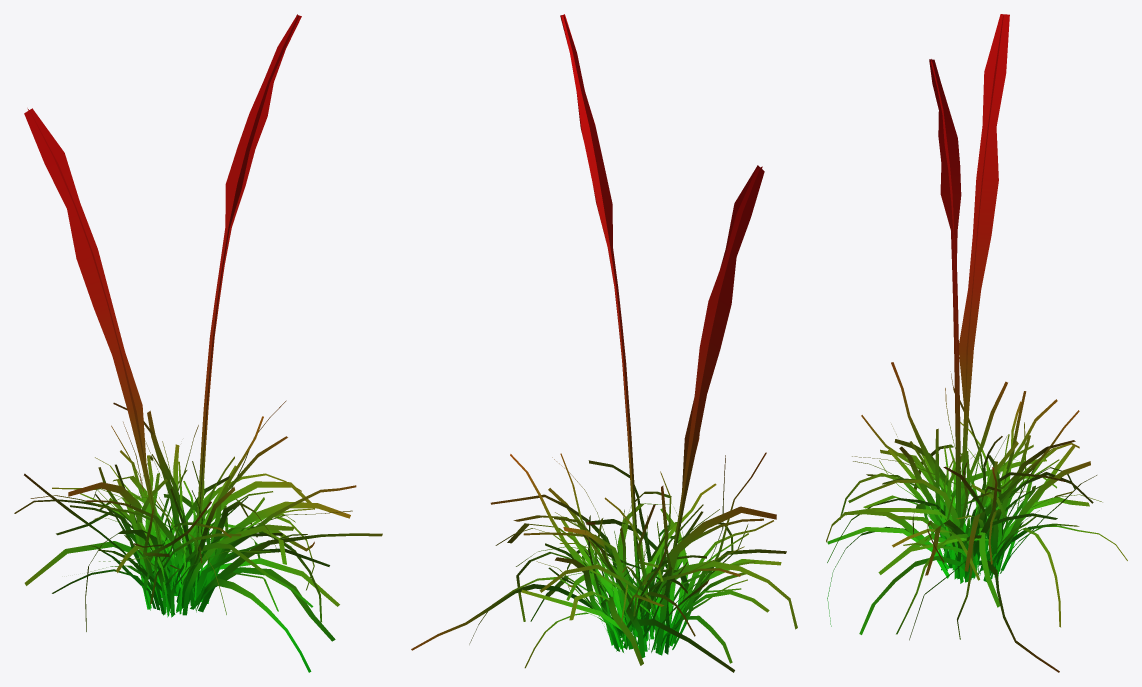
The model's file is Wheat_LOD1_Var5_smdoejyr.fbx.
The picture shows the model from 3 angles, left to right: view 1: azimuth 30°, elevation 25°; view 2: azimuth 150°, elevation 25°; view 3: azimuth 270°, elevation 25°; orthographic projection. The views are drawn at different scales.
Parts seen in each view (by area): view 1: _ufjx_Var5_LOD1; view 2: _ufjx_Var5_LOD1; view 3: _ufjx_Var5_LOD1.
Part boxes in pixels (x1,y1,x2,y2): _ufjx_Var5_LOD1: [14, 14, 382, 672]; _ufjx_Var5_LOD1: [411, 14, 797, 672]; _ufjx_Var5_LOD1: [826, 14, 1127, 672].
Bounding box in the file's own units: 29.15 × 53.24 × 24.81.
